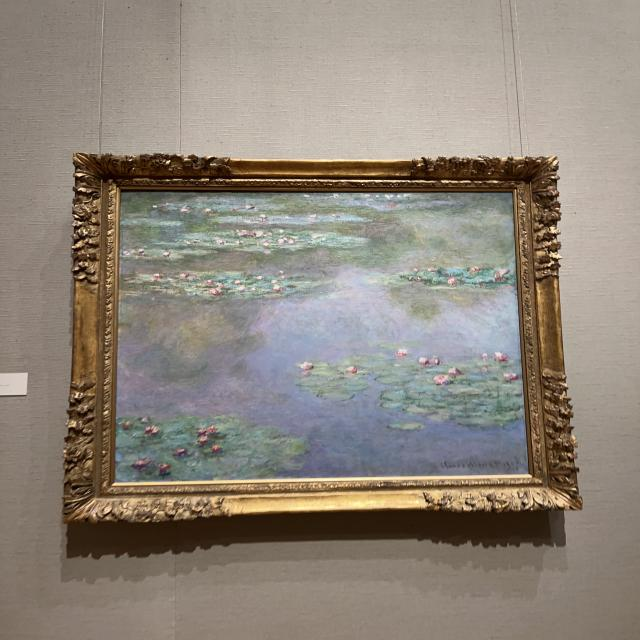lilies: (113, 191, 529, 482)
